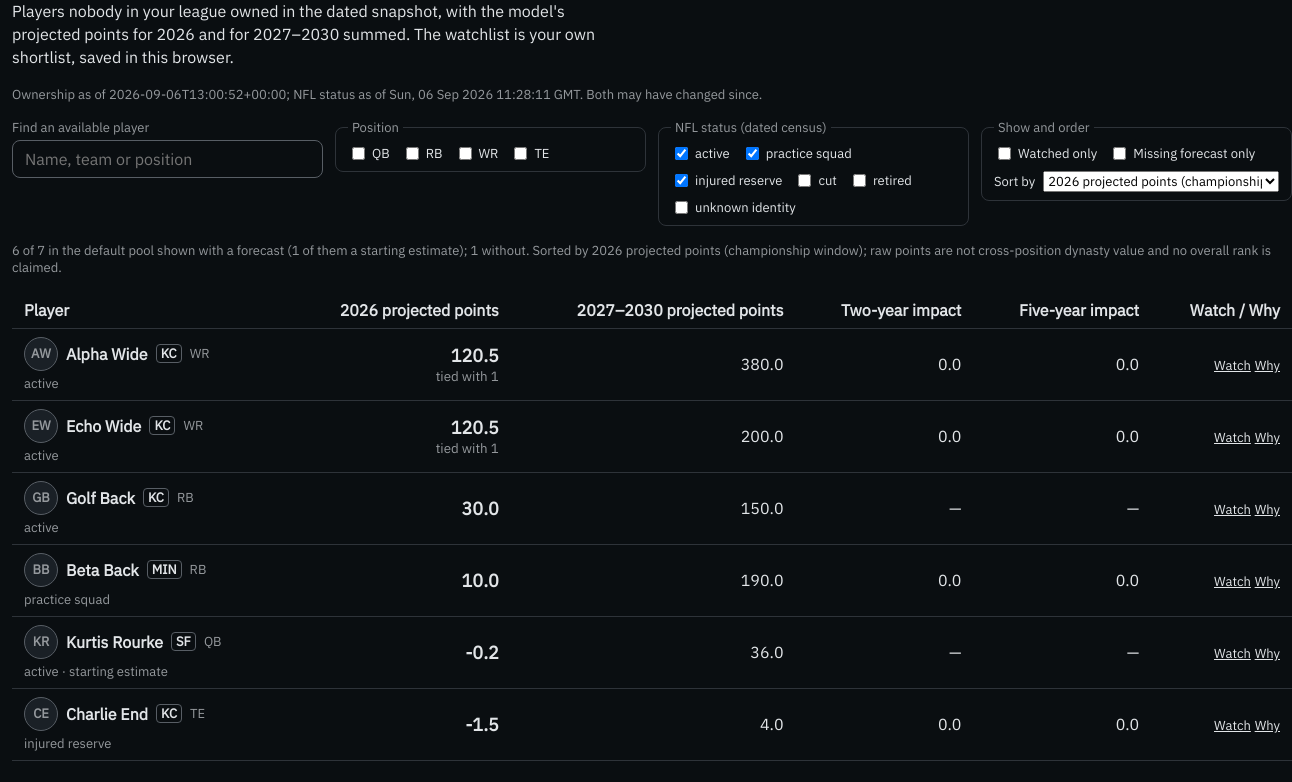
Scenario: AvailablePlayers — starting estimates (root-accepted cold-start sidecar, new-only) › labels a starting estimate visibly, names the per-year class in Why with the producer's evidence, and counts it apart
The image size is (1292, 782).
Expected: the text "6 of 7 in the default pool shown with a forecast (1 of them a starting estimate); 1 without" is shown, [12, 242, 529, 259]
Expected: the text "active · starting estimate" is shown, [24, 663, 168, 680]
Click the button "Why" in the row of "KR": (1267, 654) [1255, 645, 1280, 662]
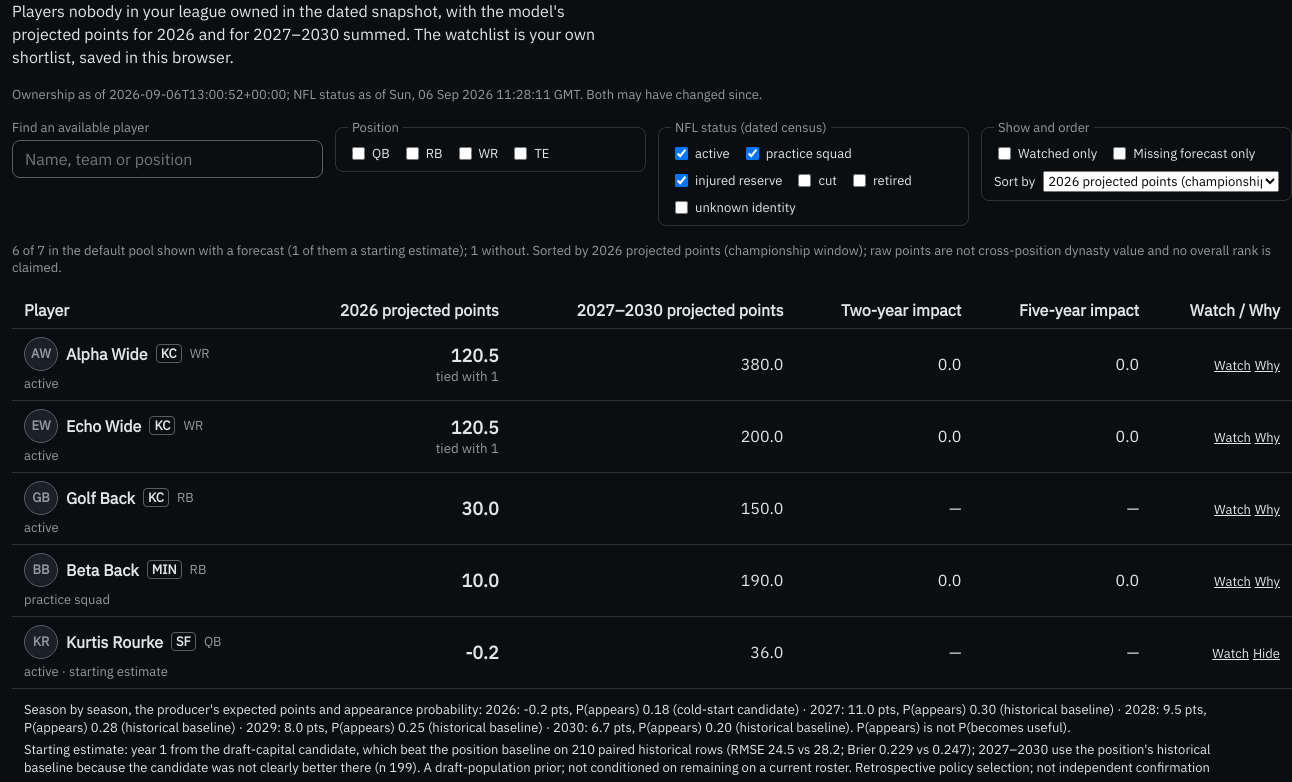
Expected: the text "2027: 11.0 pts, P(appears) 0.30 (historical baseline)" is shown, [24, 701, 1207, 736]
Expected: the text "Retrospective policy selection; not independent confirmation" is shown, [24, 741, 1210, 776]
Note: under impact ordering it sits apart with the honest reason: no impact number is fabricated
Select "five-year impact above the reference" in the dropdown labelled "Sort by": (1161, 181) [1043, 171, 1279, 192]
(page scrolled)
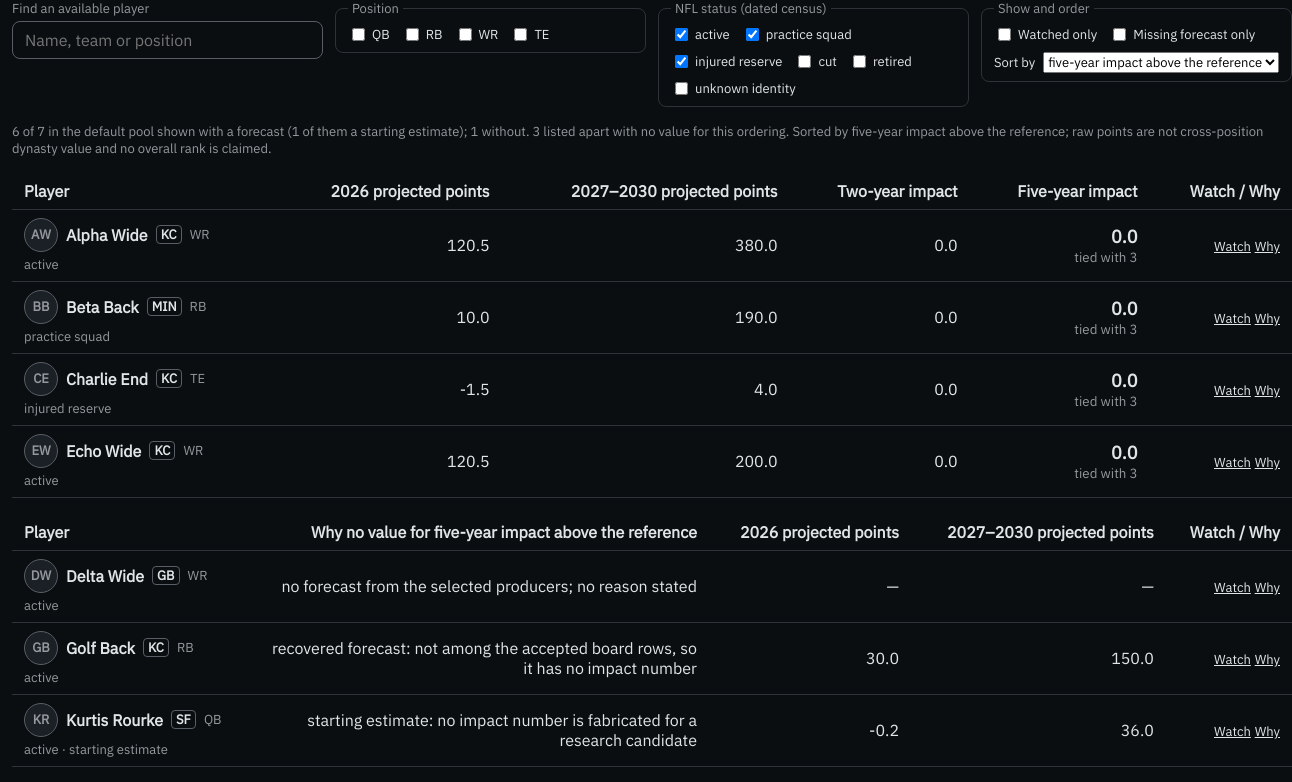
Expected: the text "Kurtis Rourke" is shown, [66, 710, 163, 730]
Expected: the text "starting estimate: no impact number is fabricated for a research candidate" is shown, [256, 694, 709, 766]
